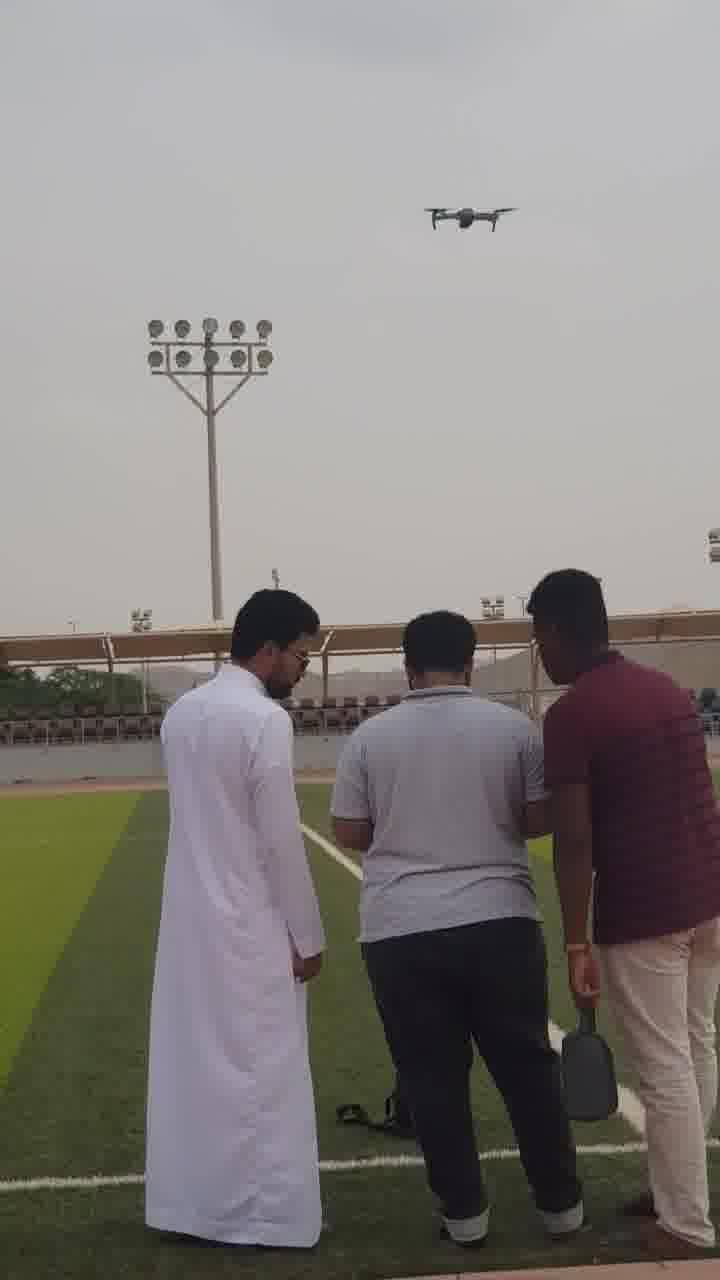drone: (420, 194, 515, 242)
